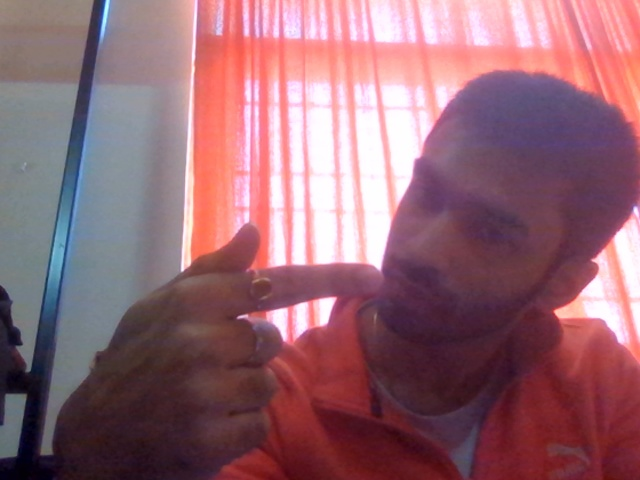G: (72, 214, 392, 480)
